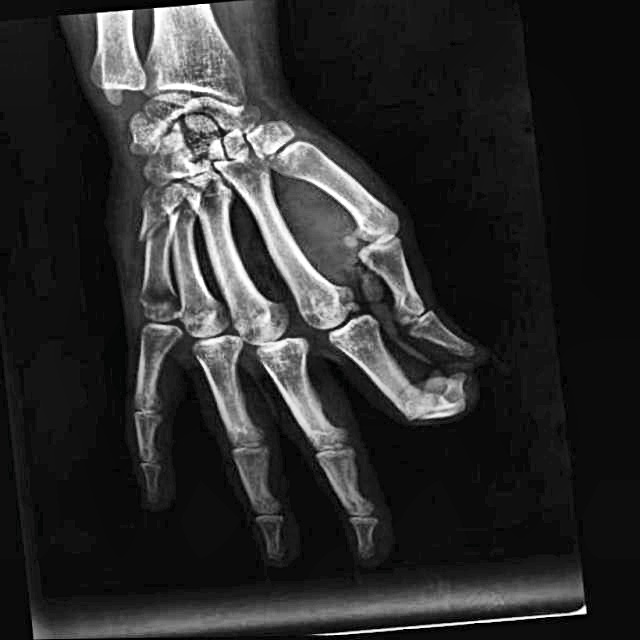Comminuted: (399, 364, 473, 445)
Oblique Displaced: (119, 186, 189, 263)
